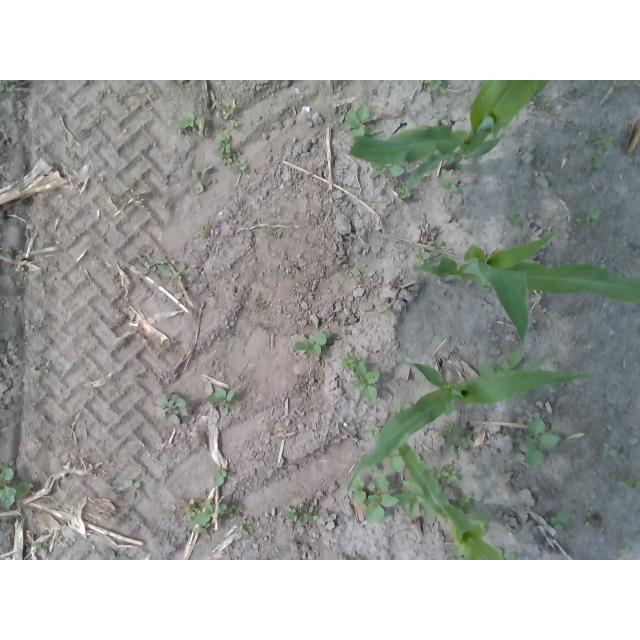Maize: (344, 353, 597, 504), (411, 228, 636, 340), (348, 81, 552, 192), (400, 440, 509, 560)
Weeds: (350, 475, 399, 526), (514, 418, 561, 471), (185, 498, 240, 534), (395, 479, 442, 518), (342, 354, 379, 403), (139, 244, 186, 281), (214, 131, 250, 173), (476, 348, 525, 377), (0, 467, 32, 509), (337, 103, 375, 138), (154, 391, 188, 426), (436, 422, 472, 454), (204, 388, 236, 417), (293, 331, 327, 357), (415, 240, 447, 265), (283, 503, 318, 525), (379, 447, 406, 474), (425, 464, 459, 484), (450, 490, 477, 515), (369, 161, 405, 179), (575, 207, 604, 229), (190, 163, 211, 193), (546, 511, 571, 534), (176, 111, 204, 130), (437, 177, 460, 200), (614, 474, 640, 490), (594, 131, 614, 151), (103, 548, 130, 561), (505, 211, 524, 229), (363, 425, 381, 444), (494, 546, 516, 560), (426, 80, 447, 94), (212, 469, 228, 487), (0, 80, 20, 94), (391, 404, 412, 417), (601, 443, 617, 458), (446, 546, 463, 560), (539, 97, 554, 112), (586, 156, 602, 170), (222, 101, 235, 116), (344, 267, 361, 278), (397, 186, 411, 199), (615, 80, 633, 89), (239, 520, 249, 536), (124, 479, 141, 488), (341, 553, 361, 560), (620, 544, 633, 554), (266, 229, 279, 239), (368, 463, 380, 473), (620, 234, 629, 247), (200, 226, 211, 236), (626, 255, 637, 265), (30, 366, 40, 375), (390, 181, 402, 188), (471, 474, 480, 483), (232, 121, 241, 130), (32, 541, 42, 549), (94, 176, 105, 183), (586, 508, 594, 516), (256, 300, 264, 308), (220, 330, 227, 338), (175, 80, 185, 85), (166, 340, 175, 345)
